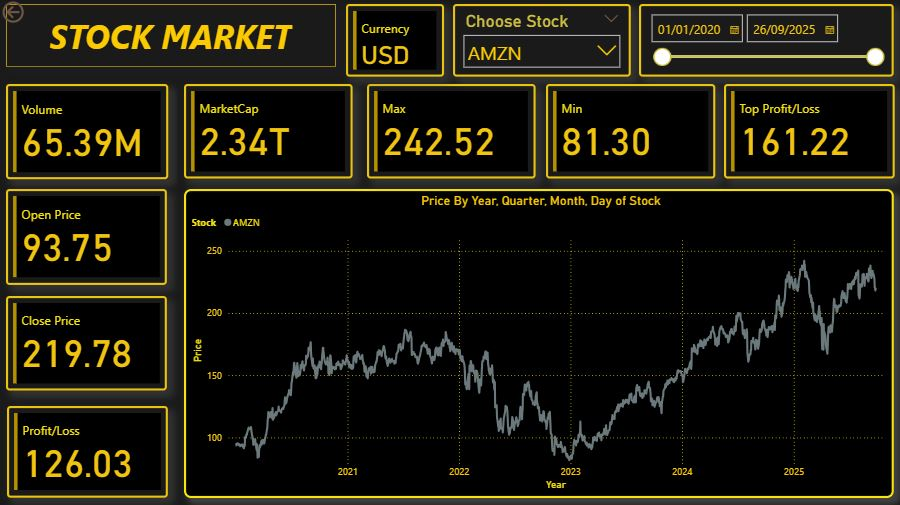

The page's visual inventory and layout, read from the dashboard file:
{"tool":"powerbi","page":{"name":"Stock Price","canvas":[1280,720],"ordinal":2},"visuals":[{"type":"lineChart","title":"Price By Year, Quarter, Month, Day of Stock","fields":{"Category":["stocks_data.Date.Variation.Date Hierarchy.Year","stocks_data.Date.Variation.Date Hierarchy.Quarter","stocks_data.Date.Variation.Date Hierarchy.Month","stocks_data.Date.Variation.Date Hierarchy.Day"],"Series":["stocks_data.Ticker"],"Y":["Sum(stocks_data.Close)"]},"box":[262.2,270.7,1006.3,438],"z":0},{"type":"slicer","fields":{"Values":["stocks_data.Ticker"]},"box":[643.5,8.5,252.3,103.5],"z":1000},{"type":"slicer","fields":{"Values":["stocks_data.Date"]},"box":[907.1,8.5,361.4,103.5],"z":2000},{"type":"cardVisual","fields":{"Data":["Min(stocks_data.Low)"]},"box":[774.6,122.4,240.3,134.3],"z":3000},{"type":"cardVisual","fields":{"Data":["Max(stocks_data.High)"]},"box":[520.9,122.4,238.8,134.3],"z":4000},{"type":"cardVisual","fields":{"Data":["stocks_data.Changes"]},"box":[1026.9,122.4,241.8,134.3],"z":5000},{"type":"cardVisual","fields":{"Data":["select","stocks_data.Open Price"]},"box":[10.4,270.1,228.4,135.8],"z":6000},{"type":"cardVisual","fields":{"Data":["select","stocks_data.Close Price"]},"box":[10.4,422.4,228.4,134.3],"z":7000},{"type":"cardVisual","fields":{"Data":["select","stocks_data.Profit/Loss"]},"box":[11.9,577.6,228.4,129.9],"z":8000},{"type":"cardVisual","fields":{"Data":["Avg(stocks_data.Volume)"]},"box":[9.9,121.9,229.6,135],"z":9000},{"type":"cardVisual","fields":{"Data":["Min(stocks_data.Currency)"]},"box":[491.8,8.5,138.9,103.5],"z":10000},{"type":"cardVisual","fields":{"Data":["Avg(stocks_data.MarketCap)"]},"box":[262.7,122.4,238.8,134.3],"z":11000},{"type":"shape","title":"STOCK MARKET","box":[9.9,8.5,467.7,89.3],"z":12000},{"type":"actionButton","box":[0,0,100,40],"z":13000}]}

Visuals, with their boxes in screenshot pixels (x1, y1, x2, y2), scaled from the page's 1280x720 canvas onto the 900x505 screenshot:
"Price By Year, Quarter, Month, Day of Stock" lineChart: 184 190 892 497
slicer - stocks_data.Ticker: 452 6 630 79
slicer - stocks_data.Date: 638 6 892 79
cardVisual - Min(stocks_data.Low): 545 86 714 180
cardVisual - Max(stocks_data.High): 366 86 534 180
cardVisual - stocks_data.Changes: 722 86 892 180
cardVisual - select x stocks_data.Open Price: 7 189 168 285
cardVisual - select x stocks_data.Close Price: 7 296 168 390
cardVisual - select x stocks_data.Profit/Loss: 8 405 169 496
cardVisual - Avg(stocks_data.Volume): 7 85 168 180
cardVisual - Min(stocks_data.Currency): 346 6 443 79
cardVisual - Avg(stocks_data.MarketCap): 185 86 353 180
"STOCK MARKET" shape: 7 6 336 69
actionButton: 0 0 70 28
